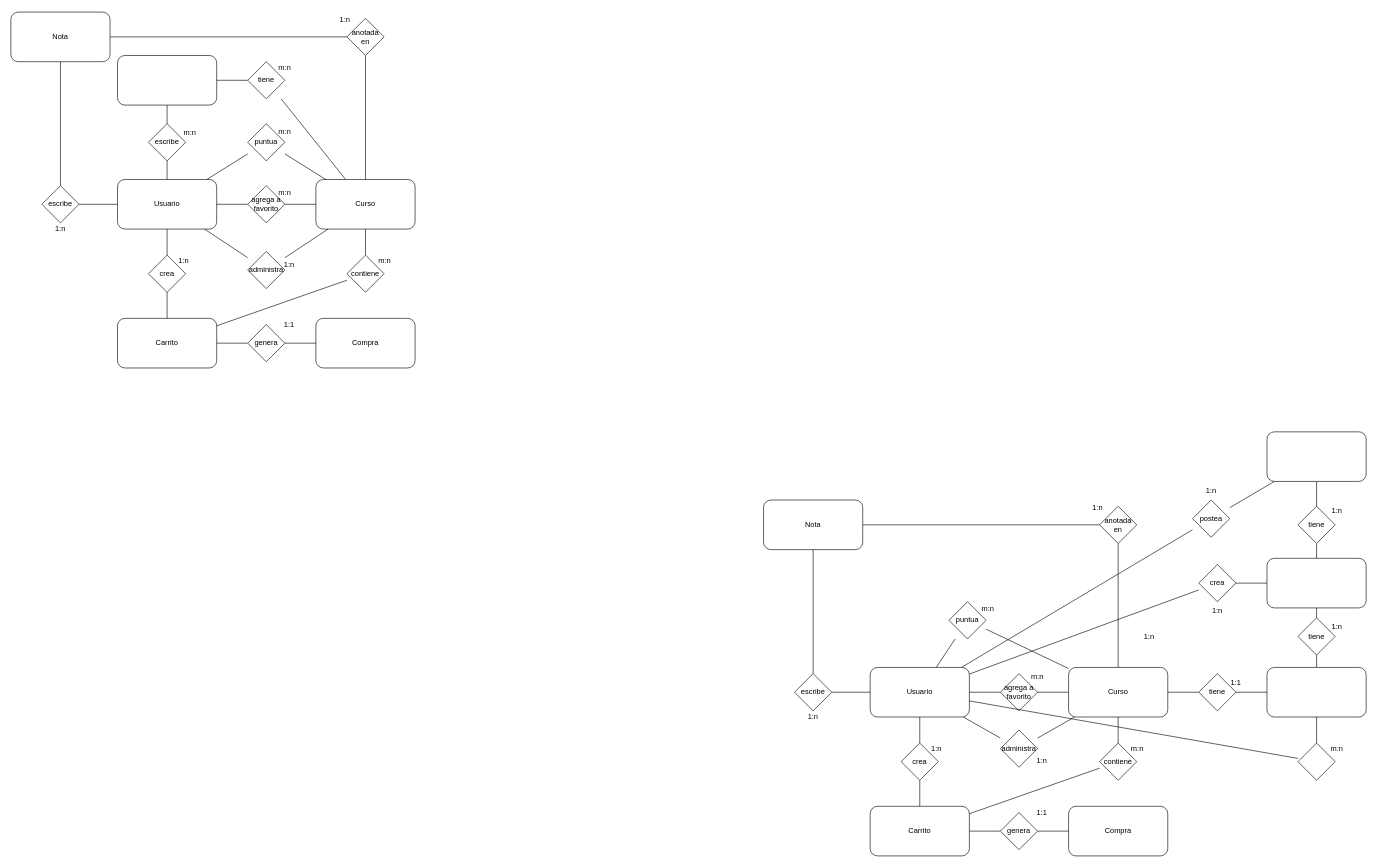
This 1377x867 diagram has some shape labels left out. The box of each missing label's shape, as (x1, y1, x2, y2) in pixels:
Duda Frecuente: (117, 55, 217, 105)
Foro: (1266, 667, 1366, 717)
Mensaje: (1266, 431, 1366, 481)
participa: (1297, 742, 1335, 780)
Tema: (1266, 558, 1366, 608)
